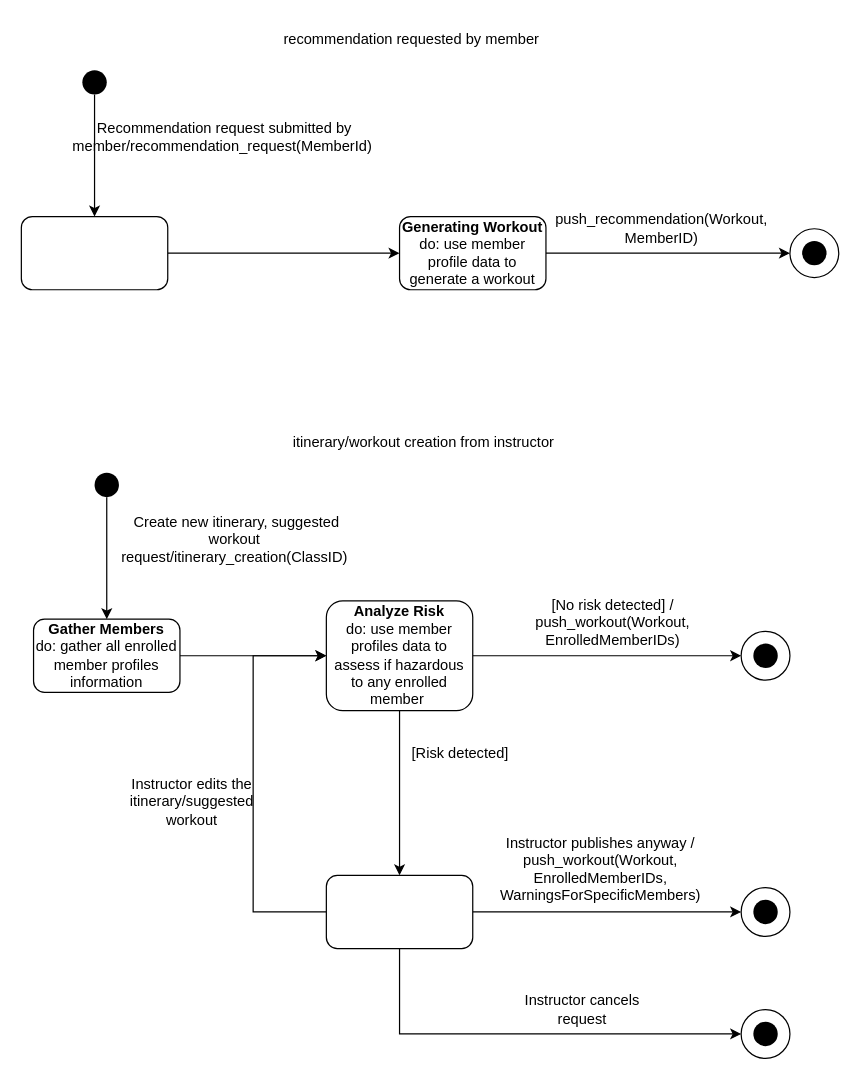
The diagram is 860 pixels wide and 1080 high, and some of its shapes have lost their labels. The centre of each missing label's shape, as x and y in pixels:
"Analyze Member do: gather member profile information" goes at (x=94, y=252).
"Warn and Await do: notify instructor of potential hazard for specific members" goes at (x=399, y=911).
